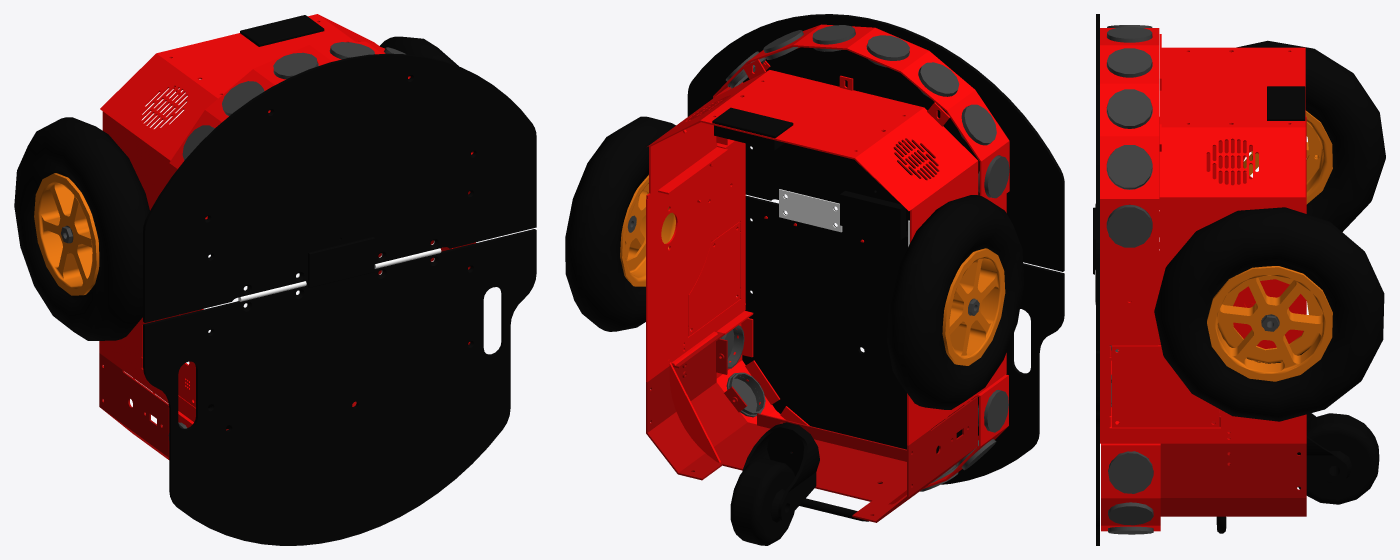
The model's file is Pioneer3DXAssembly_maisLeve.obj.
3 renders of one model, left to right at view 1: azimuth 30°, elevation 25°; view 2: azimuth 150°, elevation 25°; view 3: azimuth 270°, elevation 25°, orthographic. The views are drawn at different scales.
Parts seen in each view (by area): view 1: Solid6, Solid2, Solid4:2, Solid9, Solid1:2, Solid85, Solid3, Solid11, Solid1, Solid118, Solid4:1, Solid18 (+2 smaller); view 2: Solid6, Solid2, Solid9, Solid85, Solid4:2, Solid1, Solid4:1, Solid11, Solid1:2, Solid1:4, Solid37, Solid1:3 (+15 smaller); view 3: Solid4:1, Solid9, Solid1, Solid85, Solid4:2, Solid1:1, Solid11, Solid37, Solid1:4, Solid21, Solid2:1, Solid2:2 (+12 smaller).
Part boxes in pixels (box(x1,y1,x2,y2)): Solid6: box(143, 229, 536, 545); Solid2: box(143, 53, 536, 322); Solid4:2: box(14, 117, 149, 340); Solid9: box(100, 14, 379, 202); Solid1:2: box(34, 173, 99, 295); Solid85: box(99, 353, 356, 459); Solid3: box(306, 237, 374, 287); Solid11: box(169, 41, 473, 219); Solid1: box(99, 191, 475, 421); Solid118: box(240, 15, 324, 46); Solid4:1: box(380, 36, 458, 66); Solid18: box(273, 52, 318, 79); Solid6: box(708, 195, 1064, 484); Solid2: box(687, 14, 1064, 271); Solid9: box(646, 59, 978, 242); Solid85: box(646, 331, 977, 522); Solid4:2: box(887, 195, 1023, 409); Solid1: box(646, 141, 1006, 504); Solid4:1: box(565, 116, 675, 331); Solid11: box(713, 24, 1009, 202); Solid1:2: box(942, 248, 1005, 365); Solid1:4: box(730, 458, 794, 545); Solid37: box(688, 222, 739, 336); Solid1:3: box(742, 422, 819, 521); Solid4:1: box(1154, 207, 1384, 421); Solid9: box(1159, 34, 1305, 251); Solid1: box(1100, 116, 1306, 443); Solid85: box(1160, 409, 1306, 516); Solid4:2: box(1236, 40, 1385, 231); Solid1:1: box(1207, 266, 1332, 381); Solid11: box(1100, 28, 1159, 251); Solid37: box(1112, 345, 1218, 427); Solid1:4: box(1298, 413, 1379, 504); Solid21: box(1101, 344, 1160, 531); Solid2:1: box(1217, 275, 1322, 363); Solid2:2: box(1305, 110, 1332, 204).
Bounding box in the file's own units: 0.381 × 0.4443 × 0.2446.
